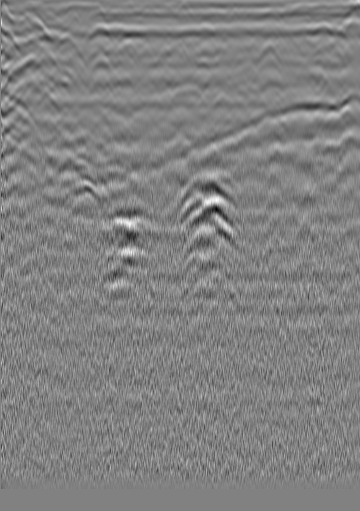가스: (98, 208, 145, 245)
상수: (310, 34, 330, 54)
오수: (22, 45, 42, 65)
우수: (173, 37, 193, 57)
